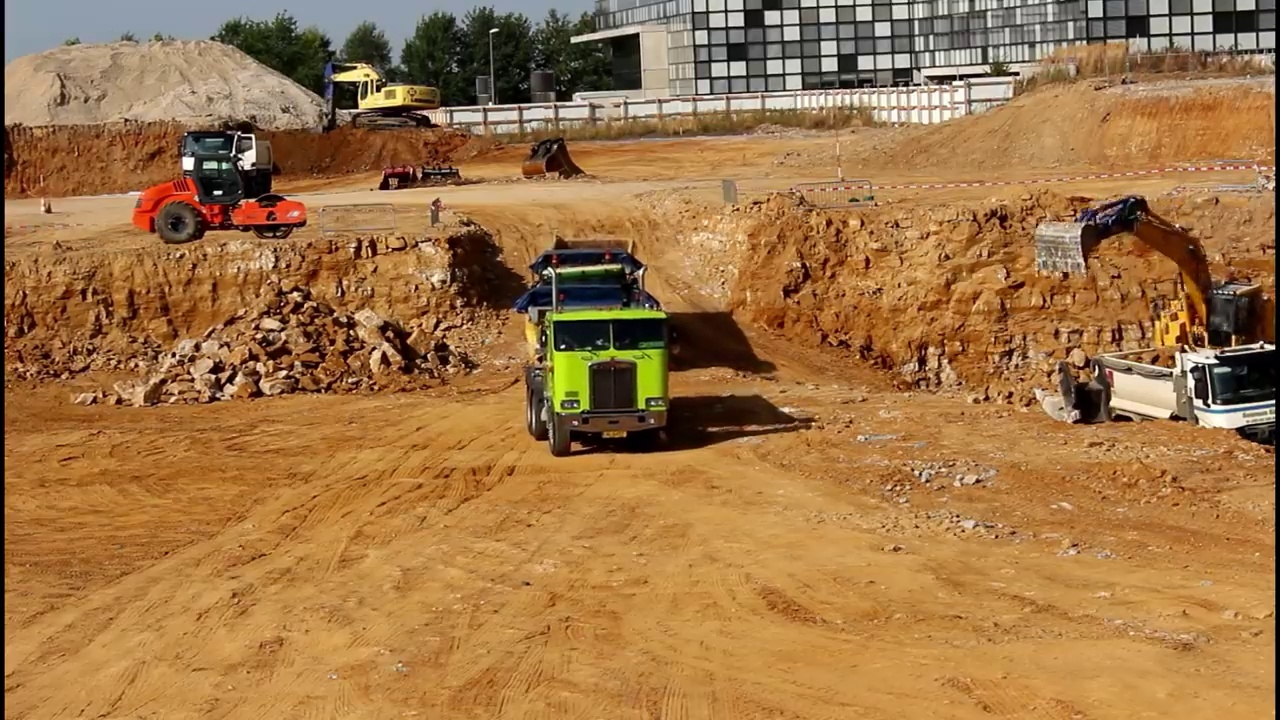compactor: (133, 152, 308, 248)
excavator: (1028, 192, 1280, 401), (316, 57, 446, 134)
truck: (1092, 334, 1280, 482), (521, 302, 676, 455), (525, 223, 659, 343), (176, 121, 287, 206)
